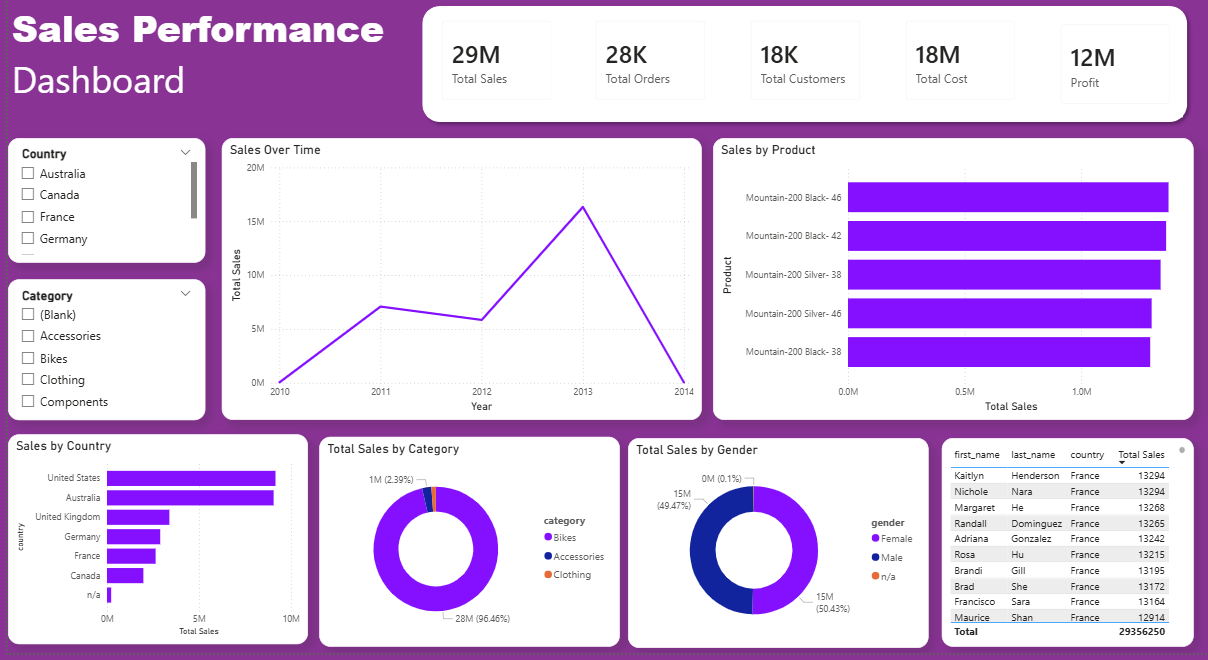

This screenshot's page, from the dashboard's own definition file:
{"tool":"powerbi","page":{"name":"Page 1","canvas":[1600,900],"ordinal":0},"visuals":[{"type":"shape","box":[542.6,27.5,1037.9,172.7],"z":0},{"type":"lineChart","title":"Sales Over Time","fields":{"Category":["gold fact_sales.order_date.Variation.Date Hierarchy.Year","gold fact_sales.order_date.Variation.Date Hierarchy.Quarter","gold fact_sales.order_date.Variation.Date Hierarchy.Month","gold fact_sales.order_date.Variation.Date Hierarchy.Day"],"Y":["gold fact_sales.Total Sales"]},"box":[284.3,214,640,376],"z":1000},{"type":"clusteredBarChart","title":"Sales by Country","fields":{"Category":["gold dim_customers.country"],"Y":["gold fact_sales.Total Sales"]},"box":[0,608.4,400,280],"z":2000},{"type":"barChart","title":"Sales by Product","fields":{"Category":["gold dim_products.product_name"],"Y":["gold fact_sales.Total Sales"]},"box":[940.1,214,640.5,376],"z":3000},{"type":"donutChart","title":"Total Sales by Category","fields":{"Category":["gold dim_products.category"],"Y":["gold fact_sales.Total Sales"]},"box":[415.8,611.4,400.5,279.7],"z":4000},{"type":"donutChart","title":"Total Sales by Gender","fields":{"Category":["gold dim_customers.gender"],"Y":["gold fact_sales.Total Sales"]},"box":[826.9,612.9,400.5,279.7],"z":5000},{"type":"tableEx","title":"Top Customers","fields":{"Values":["gold dim_customers.first_name","gold dim_customers.last_name","gold dim_customers.country","gold fact_sales.Total Sales"]},"box":[1244.2,612.9,336.3,278.2],"z":6000},{"type":"slicer","fields":{"Values":["gold dim_customers.country"]},"box":[0,214,262.9,166.6],"z":7000},{"type":"slicer","title":"Category","fields":{"Values":["gold dim_products.category"]},"box":[0,402,262.9,188],"z":8000},{"type":"textbox","box":[0,28.3,506.7,160],"z":9000},{"type":"cardVisual","fields":{"Data":["gold fact_sales.Total Sales"]},"box":[561,39.7,180.4,140.6],"z":10000},{"type":"cardVisual","fields":{"Data":["gold fact_sales.Total Orders"]},"box":[767.4,39.7,180,140],"z":11000},{"type":"cardVisual","fields":{"Data":["gold fact_sales.Total Customers"]},"box":[973.5,39.7,180.4,140.6],"z":12000},{"type":"cardVisual","fields":{"Data":["gold fact_sales.Total Cost"]},"box":[1179.9,39.7,180.4,140.6],"z":13000},{"type":"cardVisual","fields":{"Data":["gold fact_sales.Profit"]},"box":[1386.4,44.3,180.4,140.6],"z":14000}]}

Visuals, with their boxes in screenshot pixels (x1, y1, x2, y2), scaled from the page's 1600x900 canvas onto the 1208x660 screenshot:
shape: (410,20,1193,147)
"Sales Over Time" lineChart: (215,157,698,433)
"Sales by Country" clusteredBarChart: (0,446,302,651)
"Sales by Product" barChart: (710,157,1193,433)
"Total Sales by Category" donutChart: (314,448,616,653)
"Total Sales by Gender" donutChart: (624,449,927,655)
"Top Customers" tableEx: (939,449,1193,653)
slicer - gold dim_customers.country: (0,157,198,279)
"Category" slicer: (0,295,198,433)
textbox: (0,21,383,138)
cardVisual - gold fact_sales.Total Sales: (424,29,560,132)
cardVisual - gold fact_sales.Total Orders: (579,29,715,132)
cardVisual - gold fact_sales.Total Customers: (735,29,871,132)
cardVisual - gold fact_sales.Total Cost: (891,29,1027,132)
cardVisual - gold fact_sales.Profit: (1047,32,1183,136)
